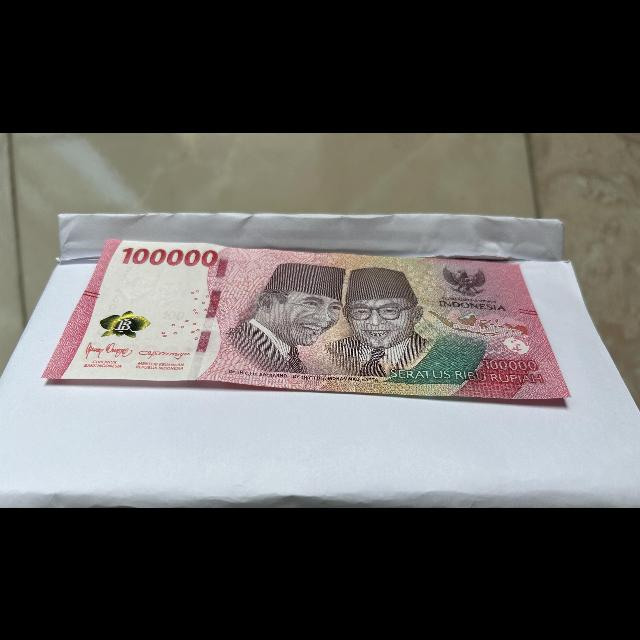Asli-100k: (35, 230, 588, 414)
Tinta-Asli-100k: (91, 304, 156, 342)
